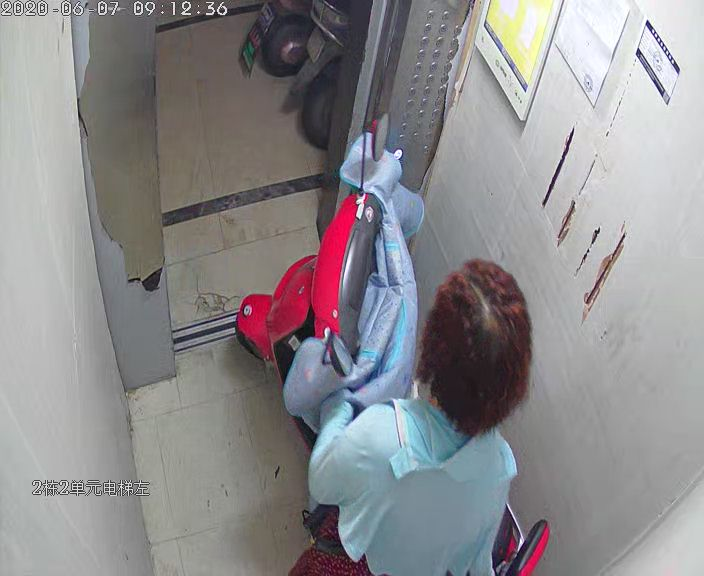Electric-bicycle: (234, 110, 551, 574), (285, 4, 355, 150), (239, 1, 318, 74)
